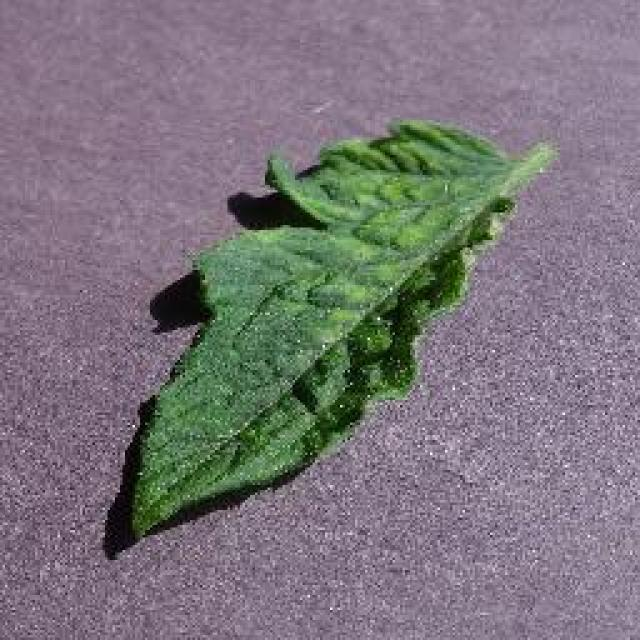Tomato___Tomato_mosaic_virus: (130, 120, 550, 535)
